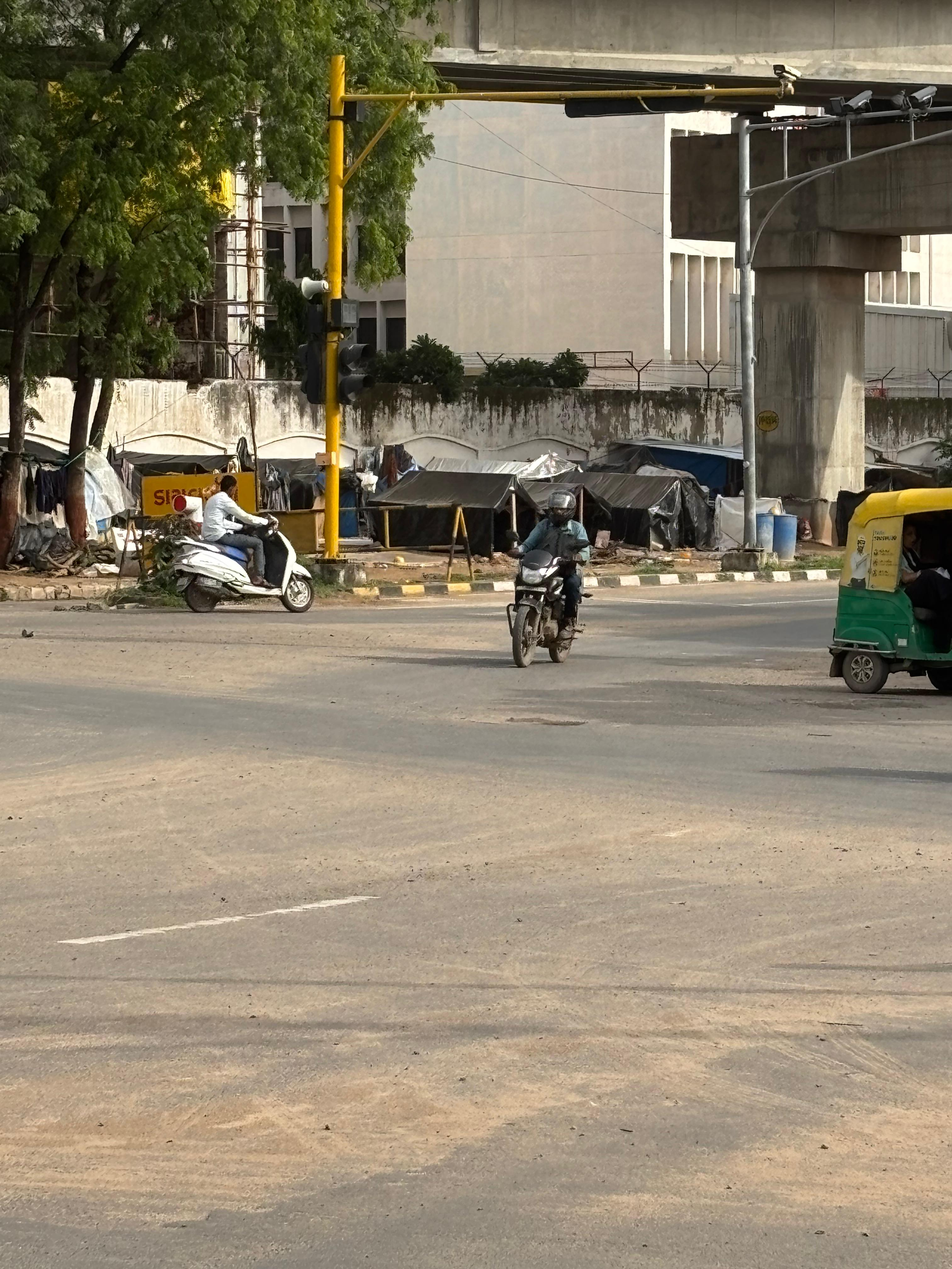BikeWithRider: (170, 472, 316, 614), (502, 488, 595, 669)
Helmet: (544, 488, 578, 527)
NoHelmet: (215, 472, 238, 500)
